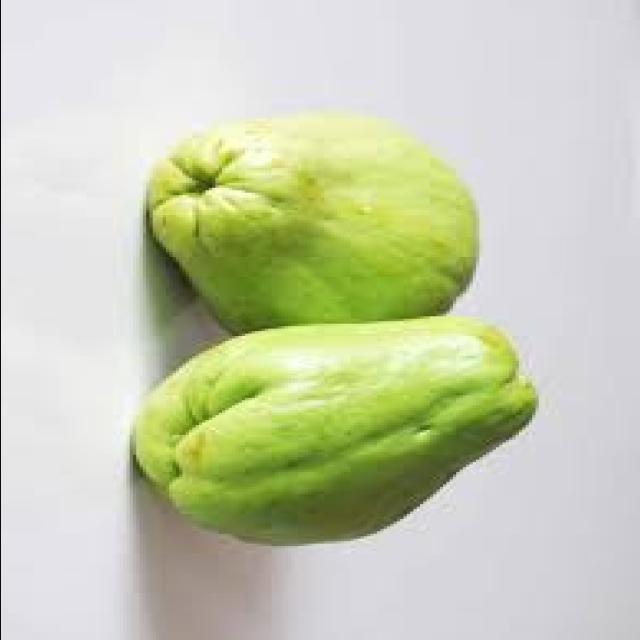Chayote: (80, 308, 580, 569), (158, 118, 526, 335)
